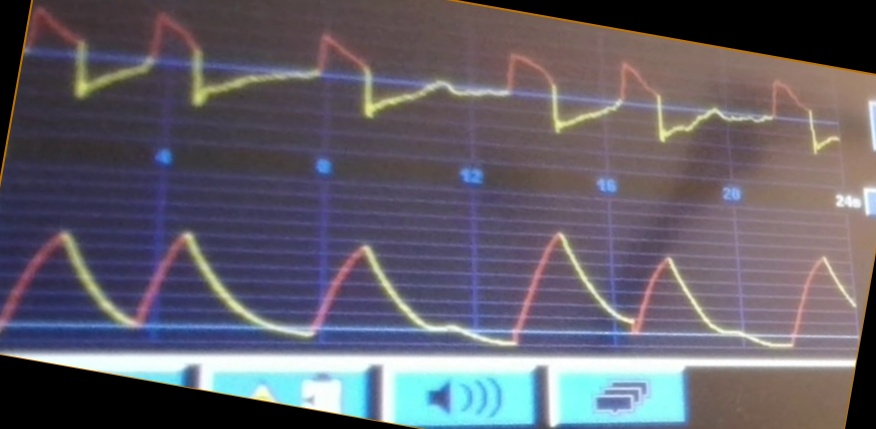Ineffective_effort Flow: (31, 7, 841, 155)
Ineffective_effort Volume: (5, 211, 853, 350)
